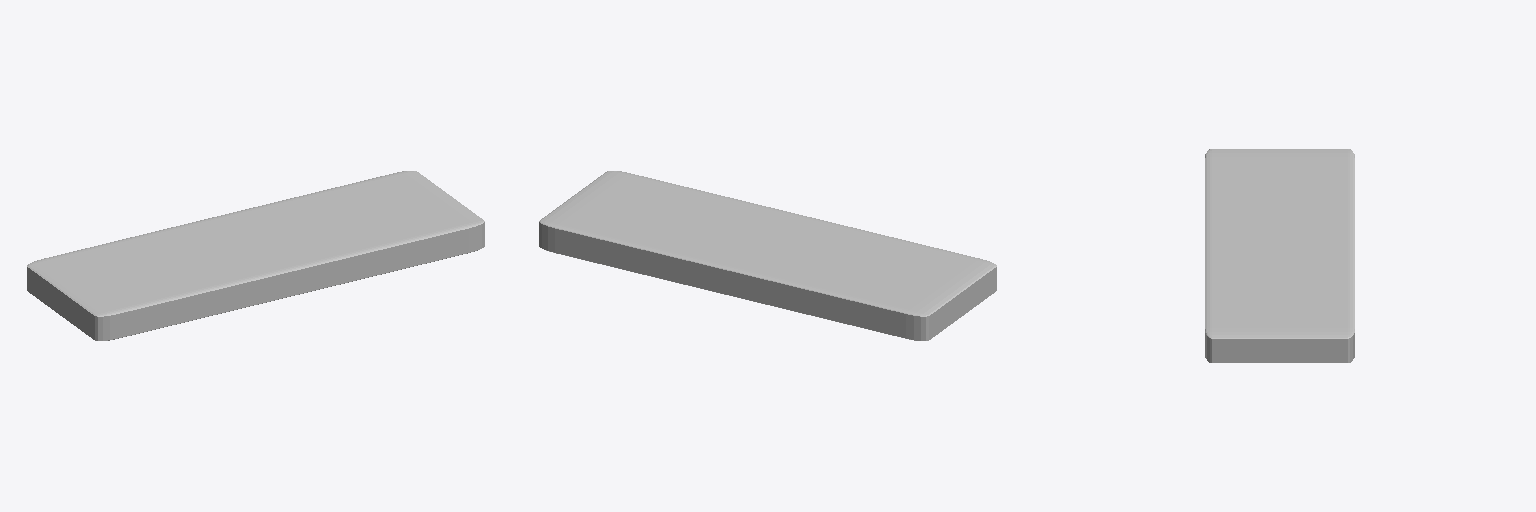
File: keyboard.obj
The picture shows the model from 3 angles: view 1: azimuth 30°, elevation 25°; view 2: azimuth 150°, elevation 25°; view 3: azimuth 270°, elevation 25°; orthographic projection.
Parts seen in each view (by area): view 1: Cube; view 2: Cube; view 3: Cube.
Boxes of the visible parts, x1=… form: Cube: x1=27, y1=171, x2=484, y2=340; Cube: x1=539, y1=171, x2=996, y2=340; Cube: x1=1205, y1=149, x2=1354, y2=362.
Size of the model in its own units: 0.9 by 0.06 by 0.3.